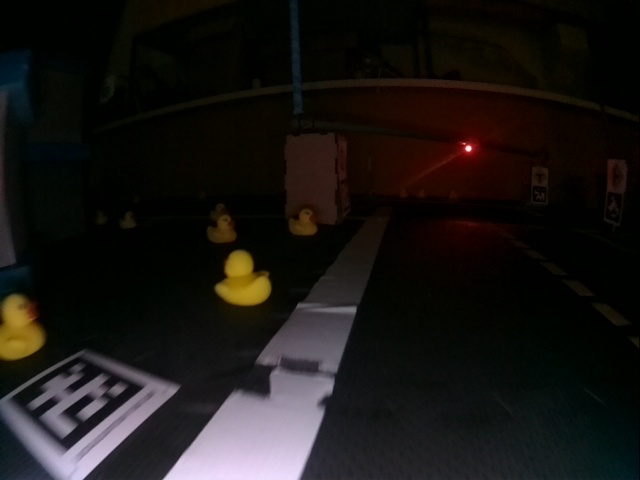Duckie: (215, 252, 269, 306), (3, 295, 44, 360), (207, 217, 238, 244), (288, 211, 318, 236), (211, 204, 228, 220), (120, 212, 135, 229), (96, 215, 107, 223), (418, 190, 427, 198), (449, 191, 458, 198), (400, 190, 407, 197)
Intersection sign: (607, 161, 624, 189), (532, 168, 548, 183)
QR code: (1, 347, 178, 479), (606, 194, 622, 224), (532, 188, 547, 202)
Traffic light: (464, 144, 473, 154)
